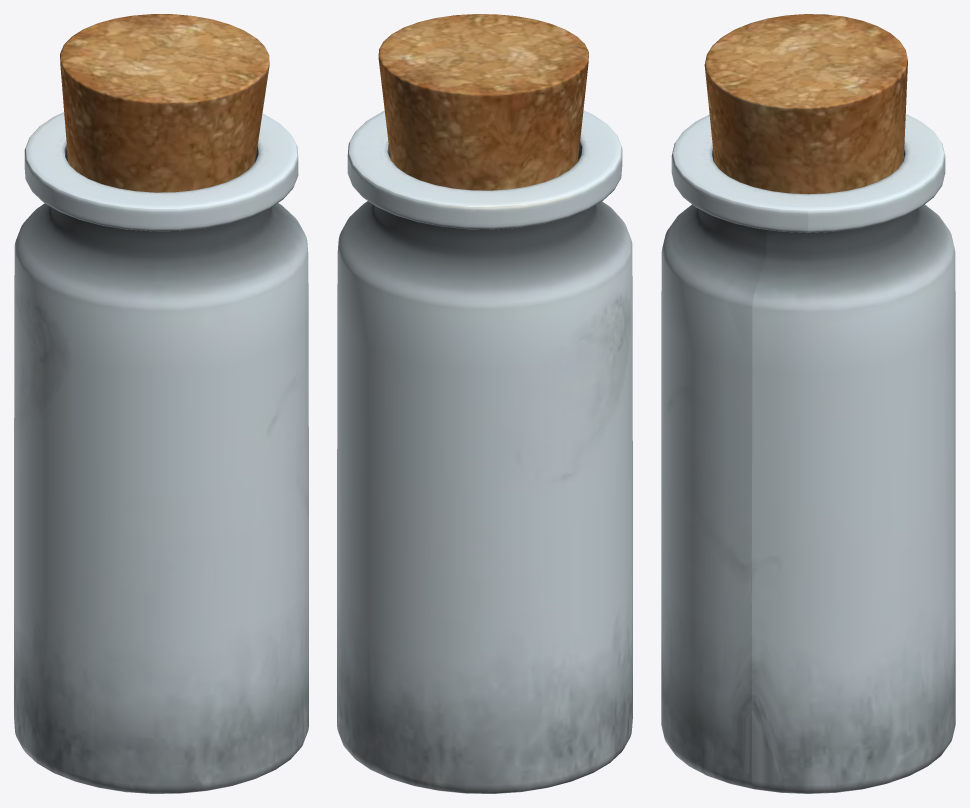
The model's file is container_vial_glass_a01.glb.
The picture shows the model from 3 angles, left to right: view 1: azimuth 30°, elevation 25°; view 2: azimuth 150°, elevation 25°; view 3: azimuth 270°, elevation 25°; orthographic projection.
Visible parts, largest first — view 1: part1, part0; view 2: part1, part0; view 3: part1, part0.
Boxes of the visible parts, x1,y1,x2,y2 form: part1: [14, 112, 308, 793]; part0: [60, 14, 269, 192]; part1: [337, 110, 632, 793]; part0: [378, 14, 588, 190]; part1: [661, 114, 955, 793]; part0: [704, 14, 907, 194].
Size of the model in its own units: 0.0326 by 0.0829 by 0.0326.
1 material, 1 textured.
